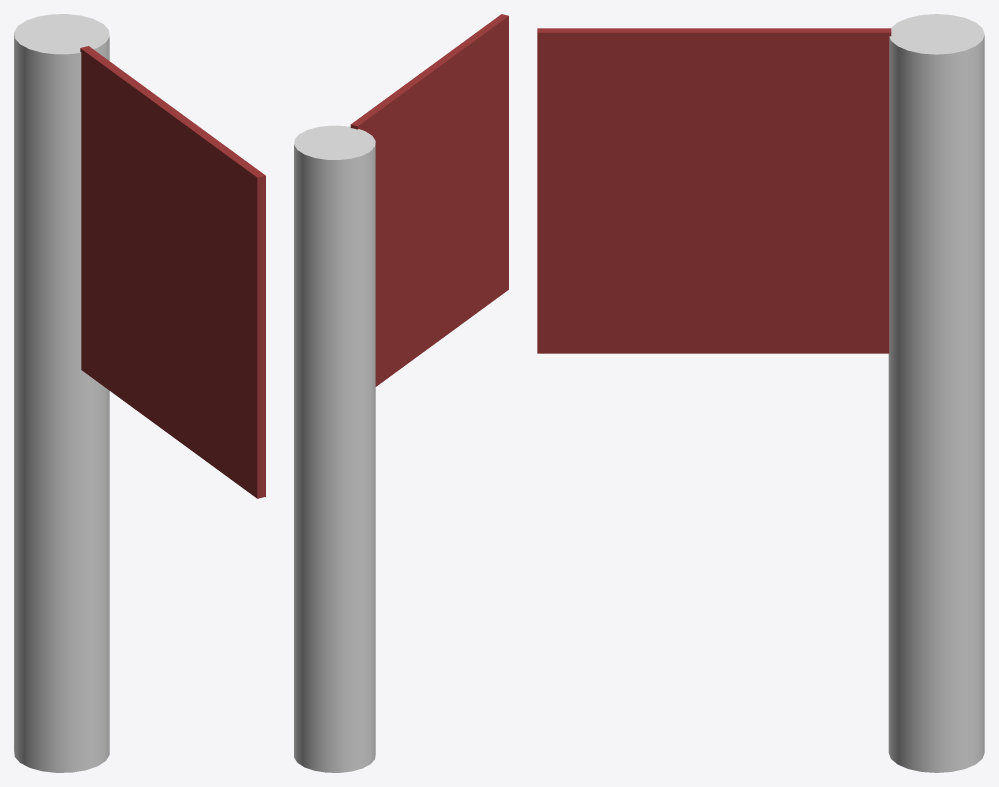
File: Flag.fbx
3 renders of one model, left to right at view 1: azimuth 30°, elevation 25°; view 2: azimuth 150°, elevation 25°; view 3: azimuth 270°, elevation 25°, orthographic. The views are drawn at different scales.
Parts seen in each view (by area): view 1: pCube2; view 2: pCube2; view 3: pCube2.
Part boxes in pixels (<box>): pCube2: <box>14,14,265,772</box>; pCube2: <box>294,14,508,772</box>; pCube2: <box>537,14,984,772</box>.
Bounding box in the file's own units: 37.9 × 314 × 176.
